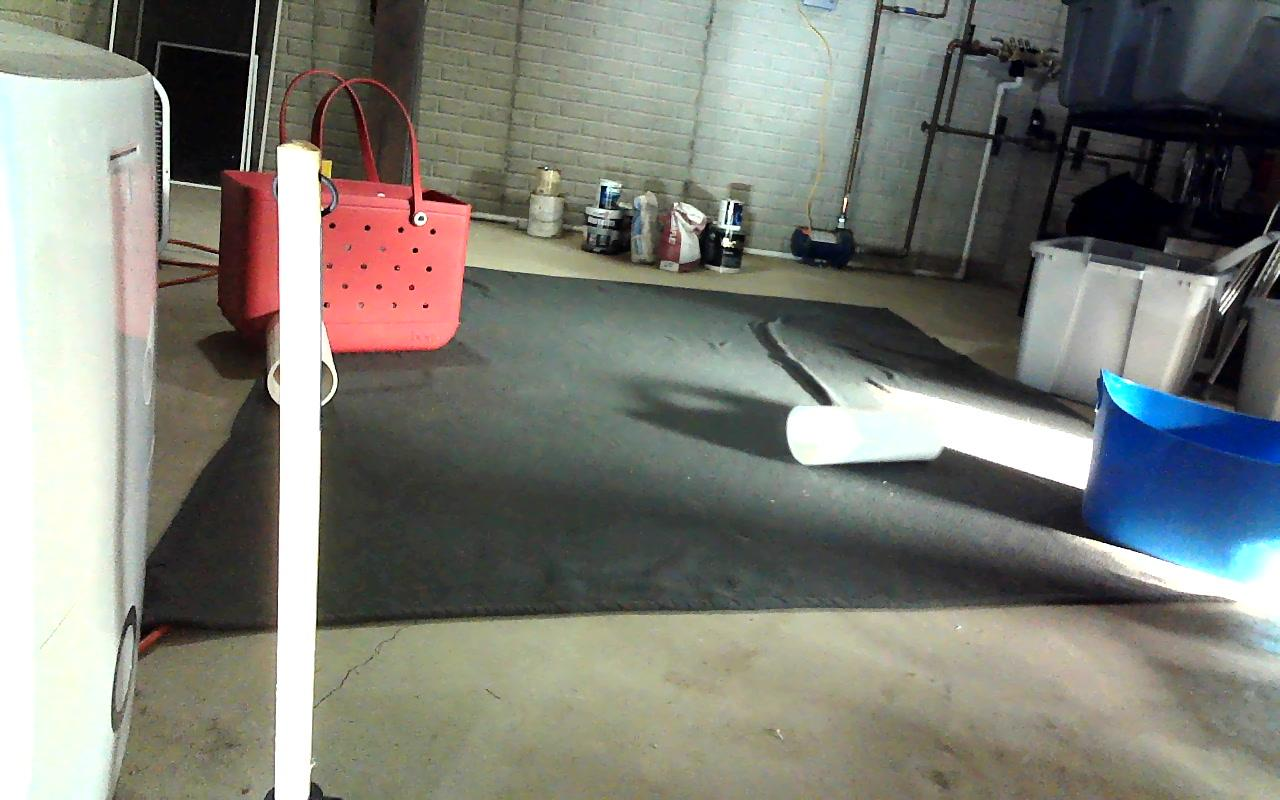coral: (787, 400, 942, 465), (267, 310, 336, 407)
